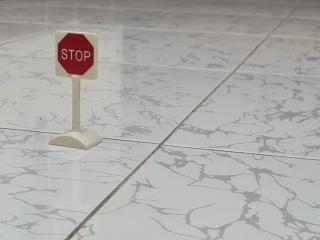stop: (44, 20, 112, 87)
